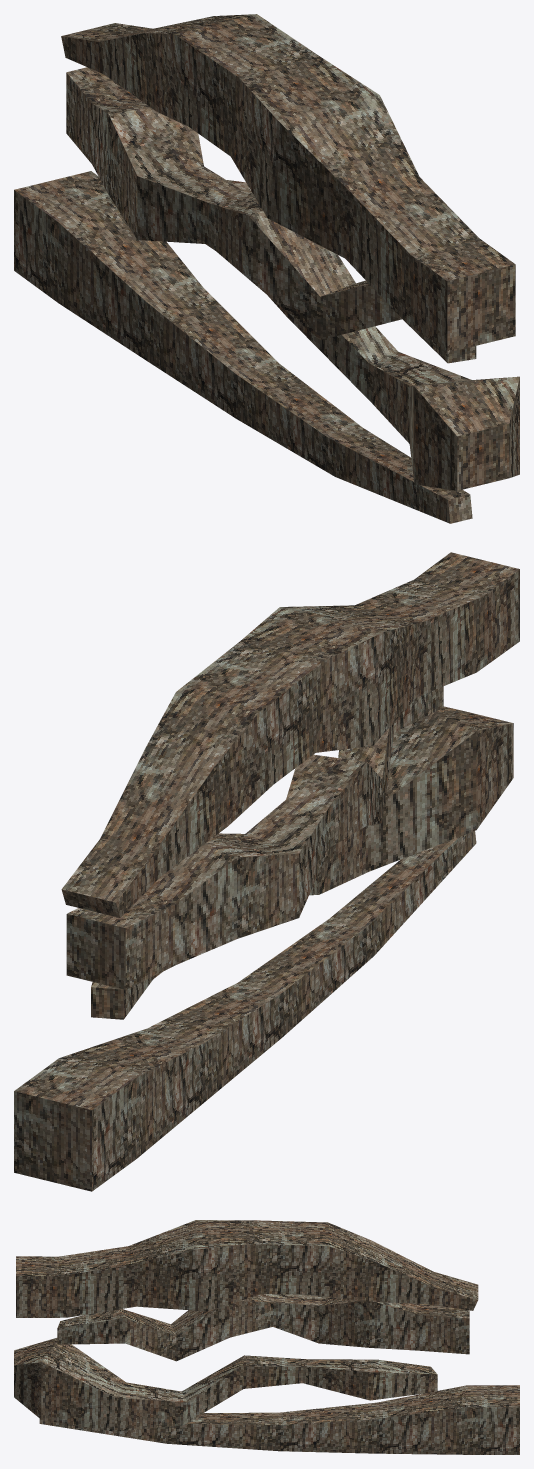
The model's file is sm_tree_gate.gltf.
The picture shows the model from 3 angles, top to bottom: view 1: azimuth 30°, elevation 25°; view 2: azimuth 150°, elevation 25°; view 3: azimuth 270°, elevation 25°; orthographic projection. The views are drawn at different scales.
Visible parts, largest first — view 1: Cube.021; view 2: Cube.021; view 3: Cube.021.
Boxes of the visible parts, left/top/right/bottom form: Cube.021: left=14, top=14, right=519, bottom=523; Cube.021: left=14, top=552, right=519, bottom=1191; Cube.021: left=14, top=1220, right=519, bottom=1454.
Bounding box in the file's own units: 2.08 × 4.67 × 10.04.
1 material, 1 textured.
